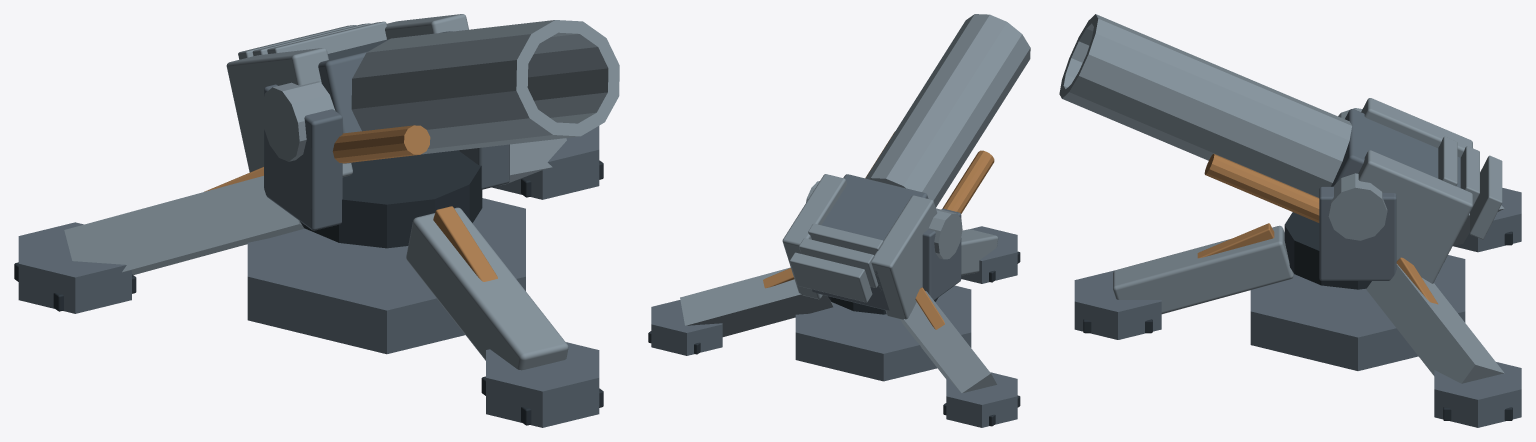
File: howitzer_t2_d0.glb
3 views of the same model, side by side, from view 1: azimuth 30°, elevation 25°; view 2: azimuth 150°, elevation 25°; view 3: azimuth 270°, elevation 25° (orthographic). The views are drawn at different scales.
Parts seen in each view (by area): view 1: BASE_ARMOR_GEOMETRY, RECOIL_ARMOR_GEOMETRY, YAW_ARMOR_GEOMETRY; view 2: RECOIL_ARMOR_GEOMETRY, BASE_ARMOR_GEOMETRY, YAW_ARMOR_GEOMETRY; view 3: RECOIL_ARMOR_GEOMETRY, BASE_ARMOR_GEOMETRY, YAW_ARMOR_GEOMETRY.
Boxes of the visible parts, bbox=[...] form: BASE_ARMOR_GEOMETRY: bbox=[14, 126, 603, 427]; RECOIL_ARMOR_GEOMETRY: bbox=[226, 14, 619, 176]; YAW_ARMOR_GEOMETRY: bbox=[264, 84, 509, 248]; RECOIL_ARMOR_GEOMETRY: bbox=[782, 14, 1030, 319]; BASE_ARMOR_GEOMETRY: bbox=[648, 226, 1020, 427]; YAW_ARMOR_GEOMETRY: bbox=[828, 208, 961, 314]; RECOIL_ARMOR_GEOMETRY: bbox=[1059, 14, 1502, 283]; BASE_ARMOR_GEOMETRY: bbox=[1074, 188, 1521, 427]; YAW_ARMOR_GEOMETRY: bbox=[1284, 186, 1396, 289].
Size of the model in its own units: 3.33 by 2.17 by 2.99.
